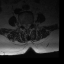CCS_normal: (26, 21, 28, 31)
LFS_normal: (29, 20, 31, 27)
LLS_normal: (28, 21, 29, 29)
RFS_normal: (22, 21, 24, 28)
RLS_normal: (24, 21, 26, 30)
